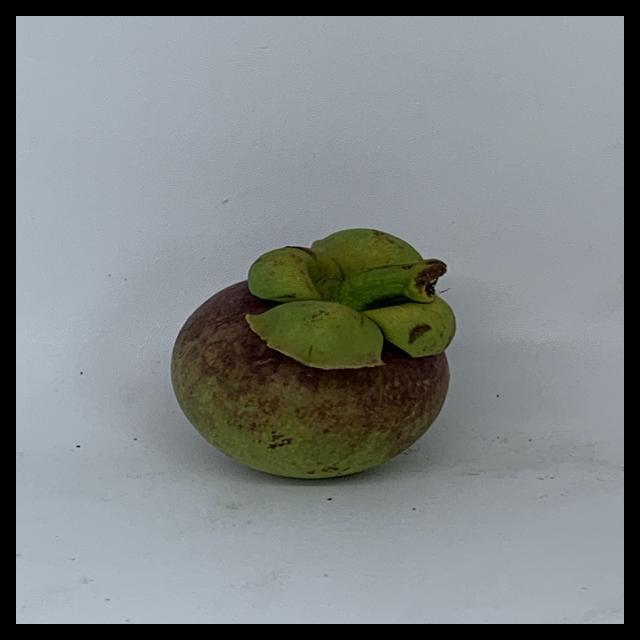mangosteen: (172, 229, 470, 492)
